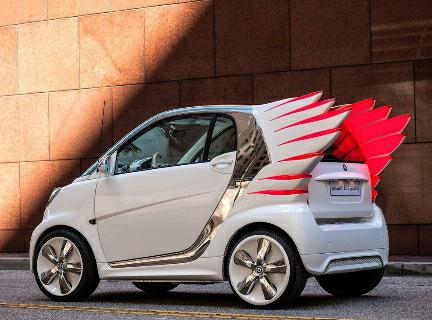smart-forjeremy: (40, 90, 404, 312)
